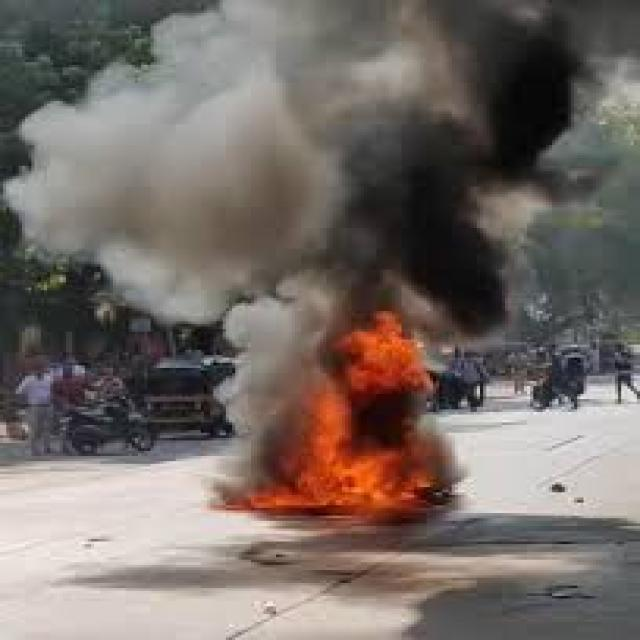Fire: (238, 311, 452, 514)
Smoke: (1, 0, 590, 314)
